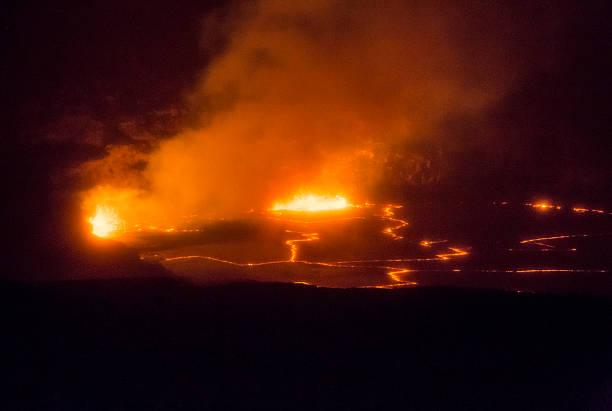Fire: (87, 48, 594, 281)
